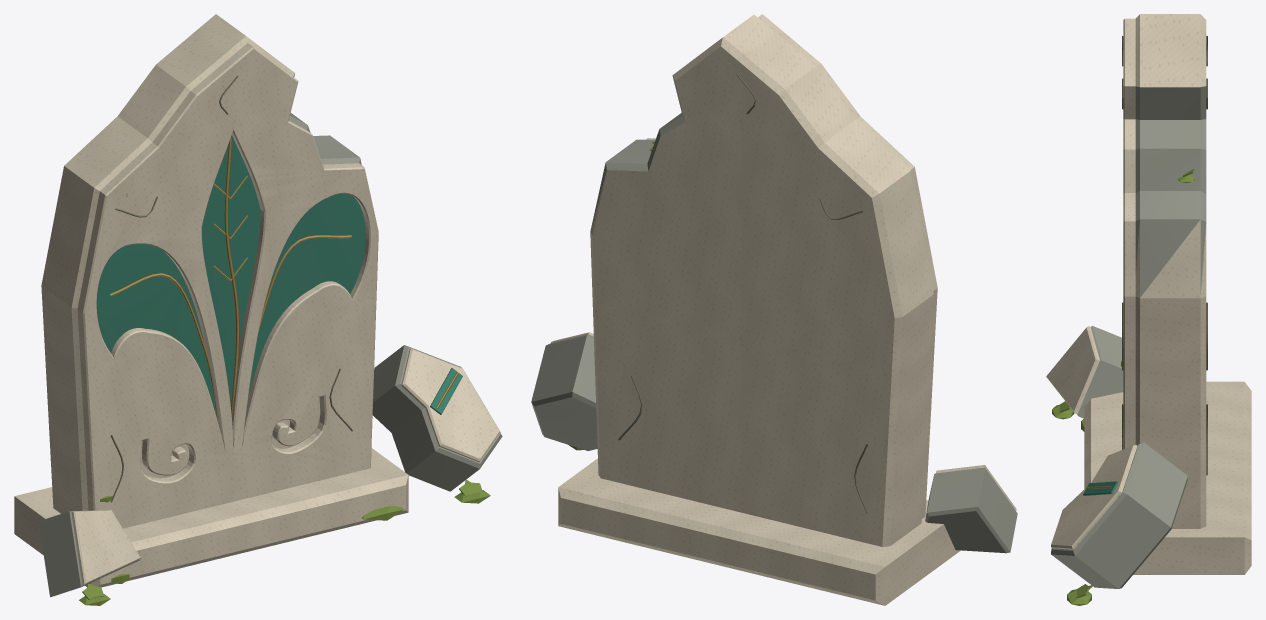
Rendered from leaf-emblem-stele.glb.
3 renders of one model, left to right at view 1: azimuth 30°, elevation 25°; view 2: azimuth 150°, elevation 25°; view 3: azimuth 270°, elevation 25°, orthographic. The views are drawn at different scales.
Parts seen in each view (by area): view 1: stele-limestone (×3), stele-jade, stele-fracture (×3), stele-aged-gold, stele-moss; view 2: stele-limestone, stele-fracture (×3); view 3: stele-limestone (×3), stele-fracture (×3), stele-moss, stele-deep-carving, stele-jade.
Boxes of the visible parts, x1,y1,x2,y2 form: stele-limestone (×3): [14, 14, 500, 587]; stele-jade: [96, 135, 365, 414]; stele-fracture (×3): [38, 74, 502, 597]; stele-aged-gold: [110, 137, 351, 420]; stele-moss: [79, 193, 490, 605]; stele-limestone: [558, 14, 960, 605]; stele-fracture (×3): [531, 76, 1017, 553]; stele-limestone (×3): [1046, 14, 1251, 574]; stele-fracture (×3): [1051, 86, 1206, 588]; stele-moss: [1052, 168, 1194, 605]; stele-deep-carving: [1122, 36, 1207, 475]; stele-jade: [1083, 481, 1118, 495].
Size of the model in its own units: 2.22 by 2.34 by 0.8828.
6 materials, 1 textured.
